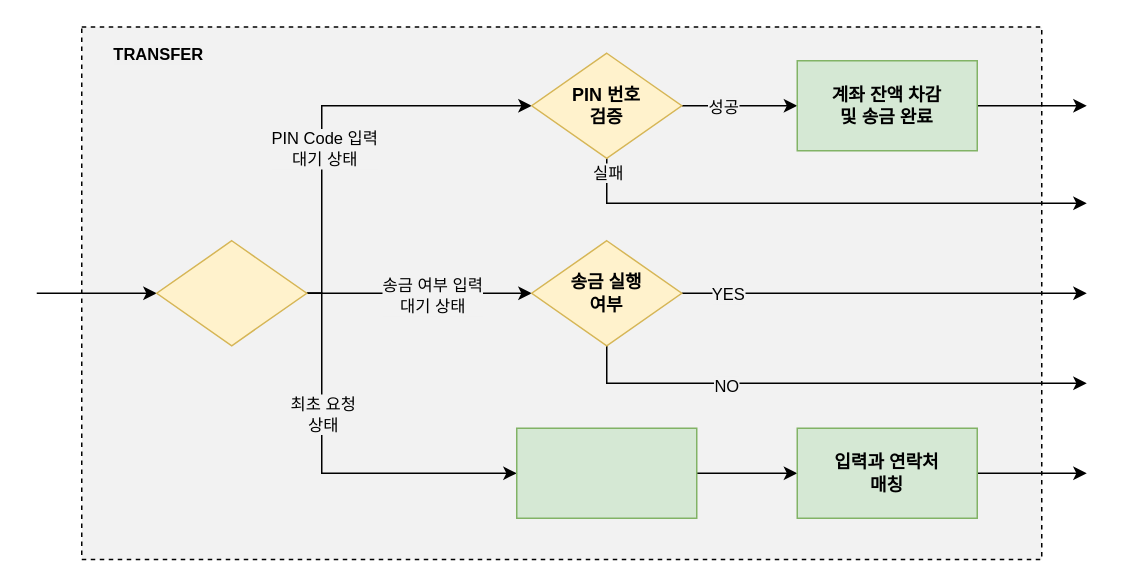
Image size: 1125x585. Some labels were removed from this diagram. Here are the shapes that lost their labels. From the top down, the centre of each, then its label:
At pixel 231 292: "현재 상태 확인".
At pixel 606 472: "입력으로부터 정보 추출 (송금 대상, 금액 등)".
